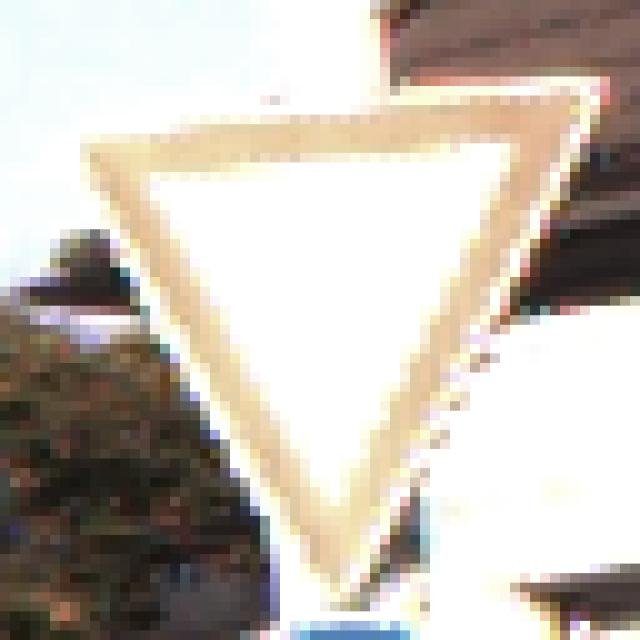Give Way: (51, 58, 591, 584)
